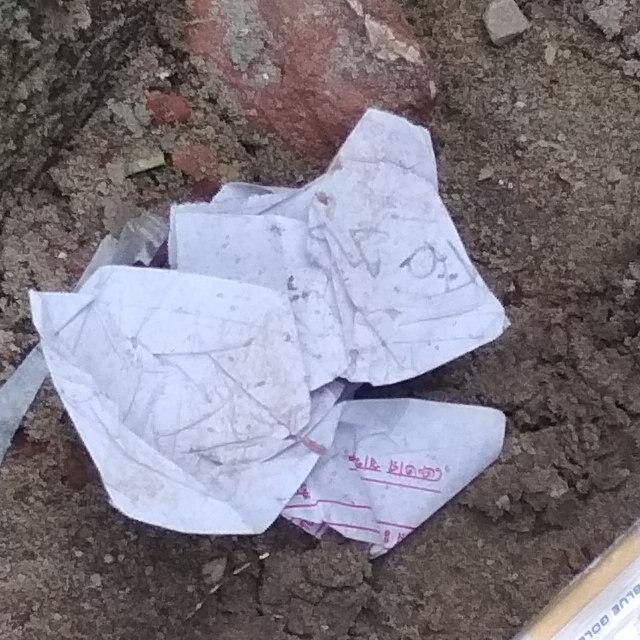paper: (0, 96, 558, 567)
